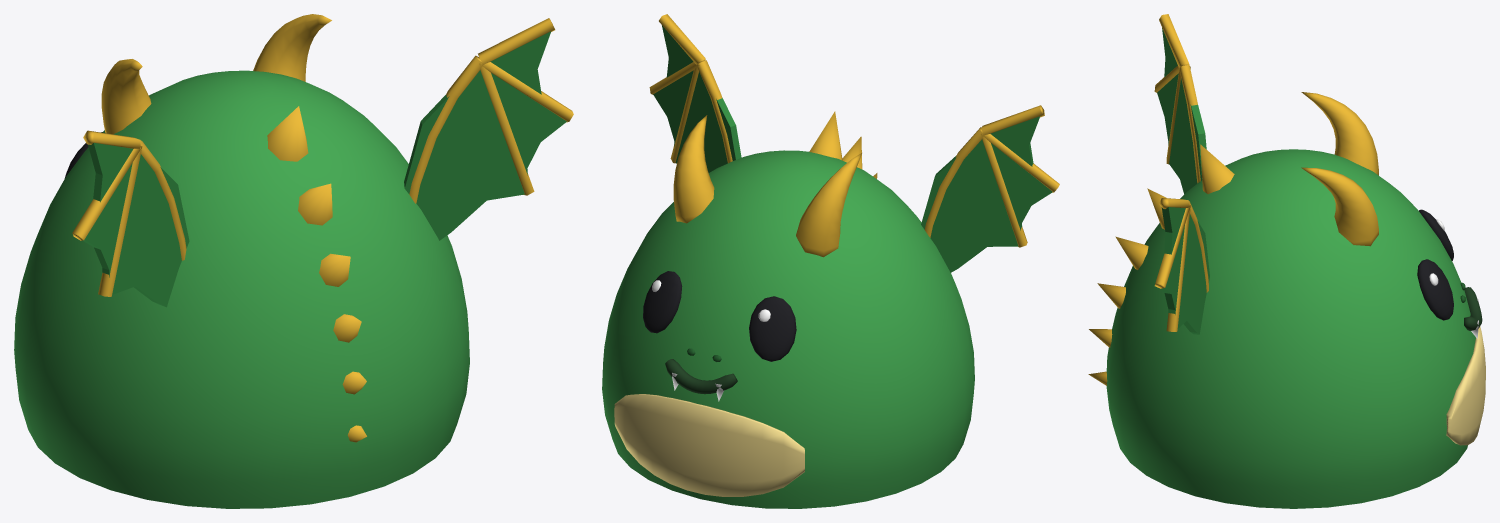
The model's file is Dragon.glb.
The picture shows the model from 3 angles, left to right: view 1: azimuth 30°, elevation 25°; view 2: azimuth 150°, elevation 25°; view 3: azimuth 270°, elevation 25°; orthographic projection. The views are drawn at different scales.
Parts seen in each view (by area): view 1: Body, Wings, WingBones, Horns, Spikes; view 2: Body, Wings, Belly, WingBones, Horns, Eyes, Spikes, Mouth; view 3: Body, Wings, Horns, WingBones, Belly, Spikes, Eyes, Mouth.
Part boxes in pixels (left/top/right/bottom): Body: left=14, top=70, right=469, bottom=508; Wings: left=83, top=31, right=566, bottom=307; WingBones: left=72, top=18, right=573, bottom=296; Horns: left=101, top=14, right=331, bottom=134; Spikes: left=267, top=106, right=366, bottom=442; Body: left=602, top=150, right=974, bottom=508; Wings: left=653, top=25, right=1052, bottom=272; Belly: left=614, top=394, right=804, bottom=496; WingBones: left=649, top=14, right=1059, bottom=247; Horns: left=673, top=115, right=861, bottom=257; Eyes: left=643, top=271, right=796, bottom=361; Spikes: left=809, top=111, right=877, bottom=178; Mouth: left=665, top=359, right=737, bottom=394; Body: left=1106, top=149, right=1475, bottom=508; Wings: left=1157, top=28, right=1209, bottom=334; Horns: left=1301, top=92, right=1378, bottom=246; WingBones: left=1154, top=14, right=1208, bottom=331; Belly: left=1446, top=326, right=1485, bottom=445; Spikes: left=1088, top=144, right=1234, bottom=385; Eyes: left=1417, top=209, right=1453, bottom=320; Mouth: left=1464, top=287, right=1482, bottom=330.
Size of the model in its own units: 6.57 by 5.02 by 5.52.
